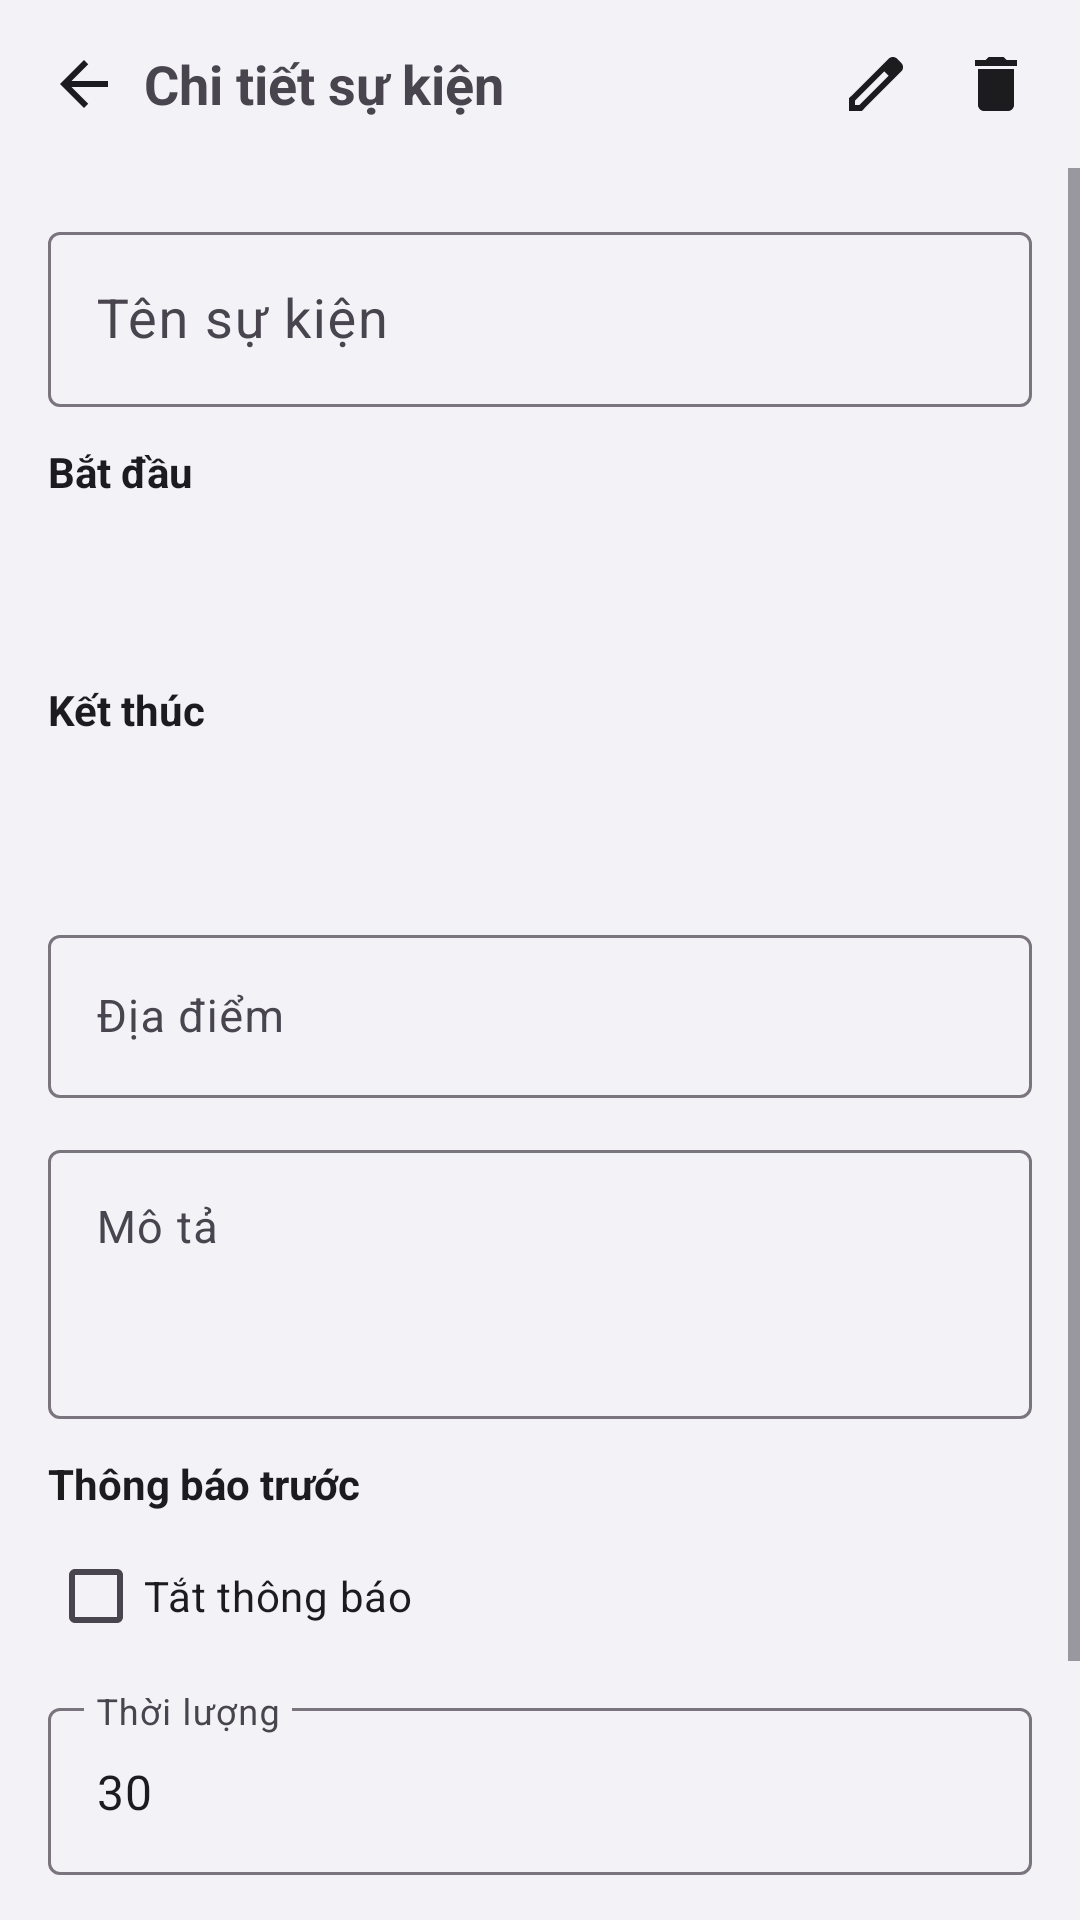

Icons on this 1080*1920 Android screen, each with its box as {"left": x1, "top": y1, "right": x2, "bottom": y2}:
Quay lại: {"left": 60, "top": 60, "right": 108, "bottom": 108}
Sửa: {"left": 849, "top": 57, "right": 903, "bottom": 111}
Xóa: {"left": 975, "top": 57, "right": 1017, "bottom": 111}
